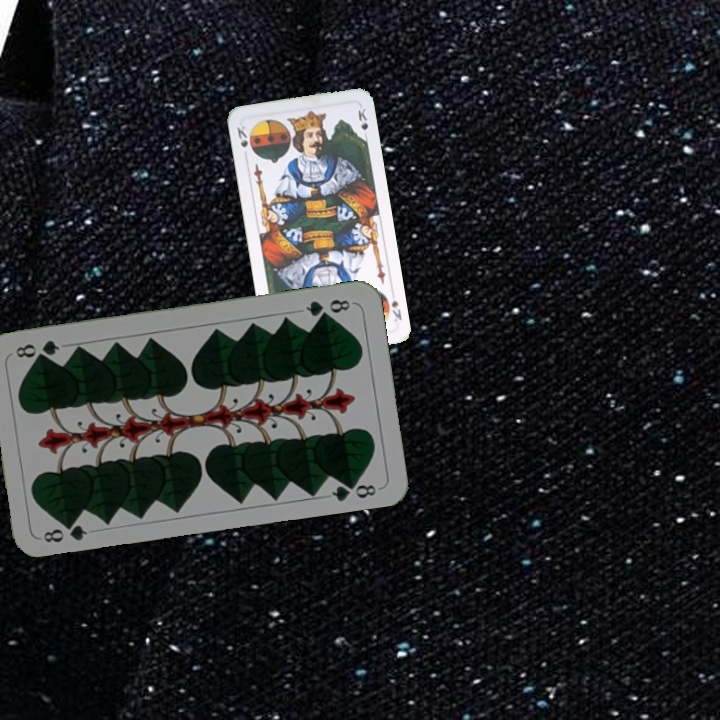G8: (39, 516, 90, 545), (301, 295, 356, 320)
SK: (233, 122, 250, 161), (387, 296, 404, 324)
